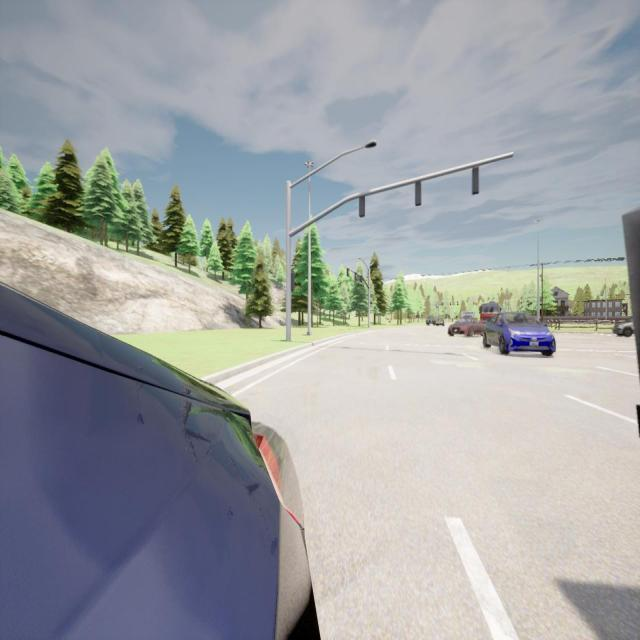Vehicle: (0, 284, 321, 639), (482, 312, 556, 358), (448, 316, 483, 337), (613, 311, 636, 339), (480, 302, 502, 319), (426, 314, 444, 327), (461, 311, 475, 317)
traffic_light: (472, 167, 478, 194), (415, 180, 421, 206), (359, 196, 365, 217), (360, 276, 362, 282), (347, 268, 348, 276), (355, 273, 356, 280), (450, 302, 451, 305), (457, 302, 458, 305), (442, 302, 442, 306)
